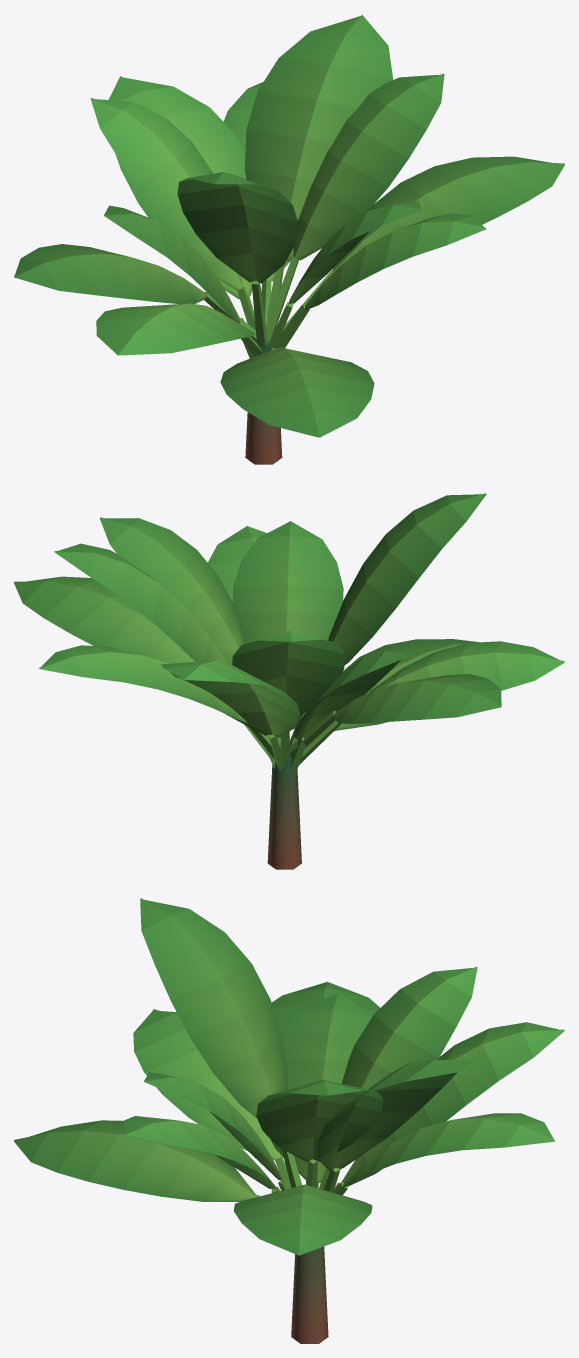
The model's file is broadleafs.glb.
3 views of the same model, one above another, from view 1: azimuth 30°, elevation 25°; view 2: azimuth 150°, elevation 25°; view 3: azimuth 270°, elevation 25° (orthographic). The views are drawn at different scales.
Visible parts, largest first — view 1: broadleafs_1, broadleafs_0; view 2: broadleafs_0, broadleafs_1; view 3: broadleafs_1, broadleafs_0.
Boxes of the visible parts, x1=… form: broadleafs_1: x1=96, y1=14, x2=564, y2=437; broadleafs_0: x1=14, y1=73, x2=444, y2=464; broadleafs_0: x1=39, y1=493, x2=501, y2=869; broadleafs_1: x1=14, y1=525, x2=564, y2=778; broadleafs_1: x1=14, y1=993, x2=564, y2=1255; broadleafs_0: x1=140, y1=898, x2=554, y2=1343.
Size of the model in its own units: 3.37 by 2.21 by 2.95.
